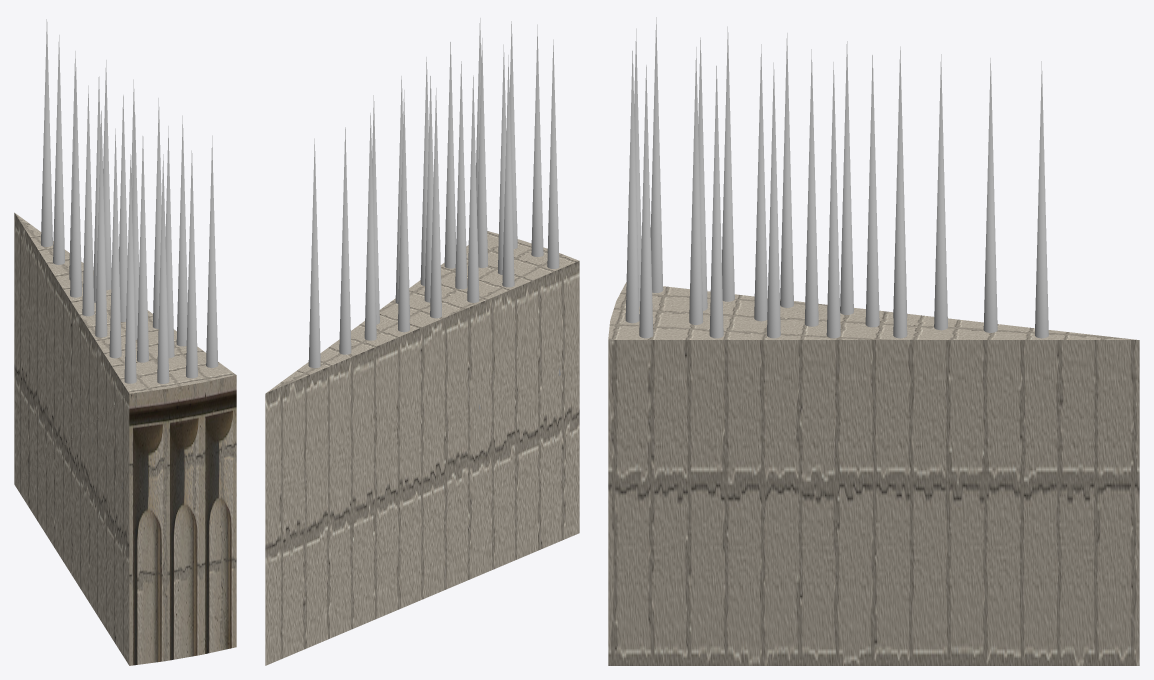
Rendered from StoneHazardMesh.fbx.
3 renders of one model, left to right at view 1: azimuth 30°, elevation 25°; view 2: azimuth 150°, elevation 25°; view 3: azimuth 270°, elevation 25°, orthographic. The views are drawn at different scales.
Parts seen in each view (by area): view 1: polySurface3, pCone14, pCone12, pCone19, pCone20, pCone22, pCone10, pCone13, pCone17, pCone11, pCone4, pCone16 (+8 smaller); view 2: polySurface3, pCone14, pCone19, pCone17, pCone18, pCone22, pCone11, pCone13, pCone4, pCone20, pCone25, pCone9 (+8 smaller); view 3: polySurface3, pCone25, pCone8, pCone11, pCone19, pCone21, pCone6, pCone20, pCone5, pCone15, pCone18, pCone9 (+8 smaller).
Boxes of the visible parts, x1=… form: polySurface3: x1=14, y1=212, x2=236, y2=665; pCone14: x1=121, y1=154, x2=136, y2=488; pCone12: x1=186, y1=150, x2=197, y2=378; pCone19: x1=92, y1=110, x2=107, y2=442; pCone20: x1=82, y1=85, x2=94, y2=316; pCone22: x1=67, y1=67, x2=81, y2=401; pCone10: x1=206, y1=135, x2=218, y2=367; pCone13: x1=157, y1=154, x2=169, y2=383; pCone17: x1=109, y1=128, x2=121, y2=358; pCone11: x1=41, y1=19, x2=52, y2=246; pCone4: x1=53, y1=35, x2=64, y2=264; pCone16: x1=137, y1=136, x2=148, y2=362; polySurface3: x1=265, y1=231, x2=579, y2=665; pCone14: x1=547, y1=39, x2=560, y2=375; pCone19: x1=467, y1=75, x2=480, y2=409; pCone17: x1=502, y1=55, x2=514, y2=287; pCone18: x1=455, y1=61, x2=467, y2=289; pCone22: x1=398, y1=103, x2=410, y2=438; pCone11: x1=308, y1=138, x2=320, y2=368; pCone13: x1=531, y1=24, x2=543, y2=256; pCone4: x1=339, y1=127, x2=351, y2=354; pCone20: x1=430, y1=88, x2=441, y2=318; pCone25: x1=364, y1=113, x2=376, y2=340; pCone9: x1=444, y1=42, x2=456, y2=268; polySurface3: x1=608, y1=282, x2=1139, y2=665; pCone25: x1=934, y1=54, x2=947, y2=330; pCone8: x1=767, y1=62, x2=780, y2=338; pCone11: x1=1035, y1=61, x2=1048, y2=338; pCone19: x1=780, y1=33, x2=793, y2=307; pCone21: x1=804, y1=49, x2=818, y2=326; pCone6: x1=826, y1=62, x2=840, y2=338; pCone20: x1=840, y1=41, x2=853, y2=314; pCone5: x1=893, y1=64, x2=907, y2=338; pCone15: x1=689, y1=47, x2=703, y2=324; pCone18: x1=754, y1=44, x2=767, y2=321; pCone9: x1=709, y1=65, x2=723, y2=338.
Bounding box in the file's own units: 0.2588 × 1.25 × 1.
